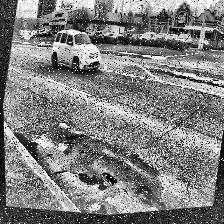pothole: (132, 184, 170, 216)
